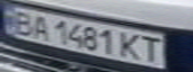1: (48, 17, 72, 45), (97, 27, 118, 56)
4: (66, 21, 84, 48)
8: (81, 24, 100, 52)
A: (27, 14, 54, 39)
B: (6, 8, 39, 35)
K: (115, 30, 148, 61)
T: (136, 34, 166, 64)
